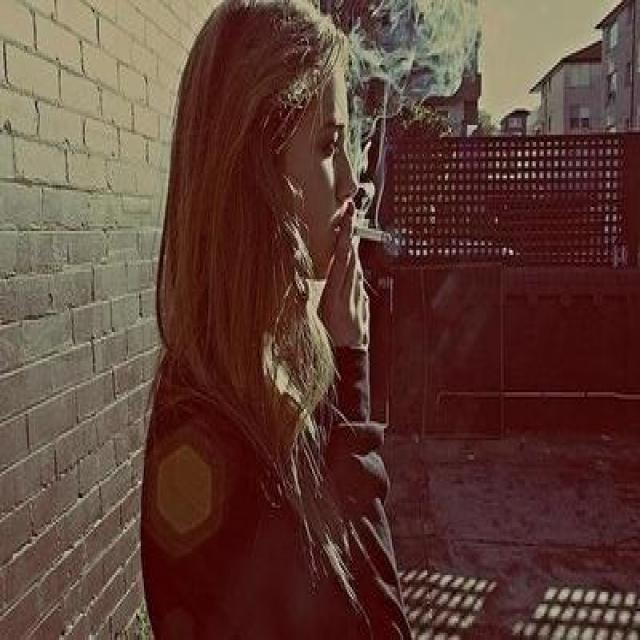smoking: (339, 218, 392, 248)
